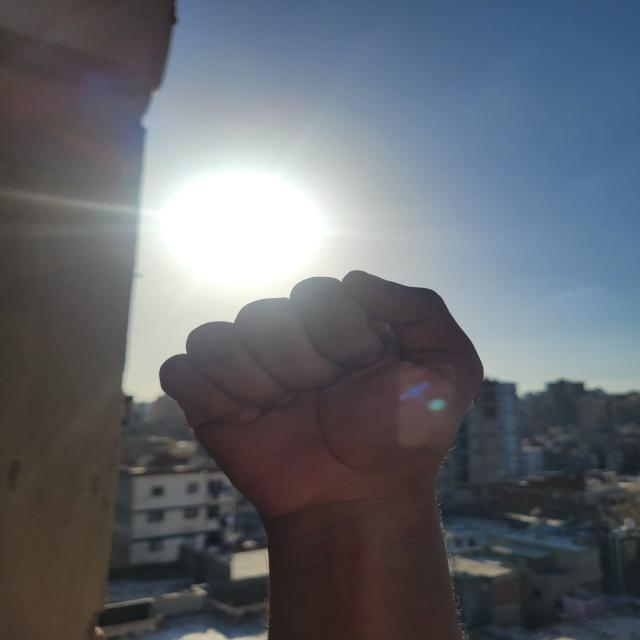Closed Hand: (158, 270, 486, 516)
